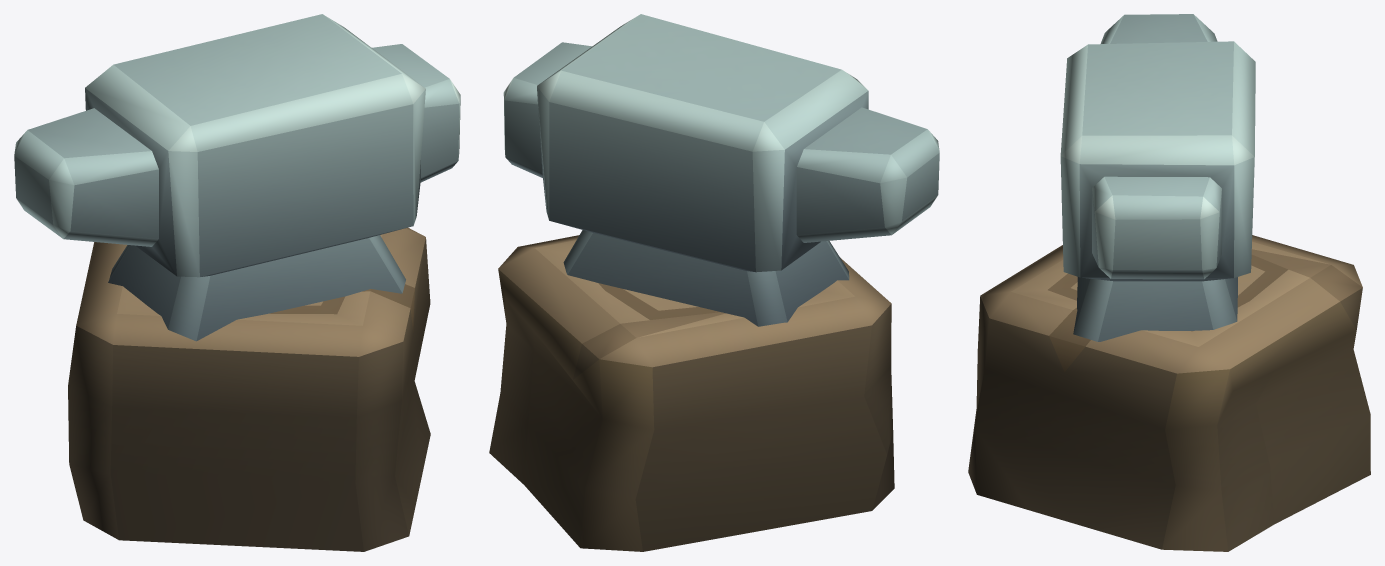
File: anvil.fbx
The picture shows the model from 3 angles, left to right: view 1: azimuth 30°, elevation 25°; view 2: azimuth 150°, elevation 25°; view 3: azimuth 270°, elevation 25°; orthographic projection. The views are drawn at different scales.
Parts seen in each view (by area): view 1: anvil; view 2: anvil; view 3: anvil.
Boxes of the visible parts, left/top/right/bottom form: anvil: left=14, top=14, right=460, bottom=551; anvil: left=489, top=14, right=939, bottom=551; anvil: left=968, top=14, right=1370, bottom=551.
Bounding box in the file's own units: 231 × 223 × 213.
